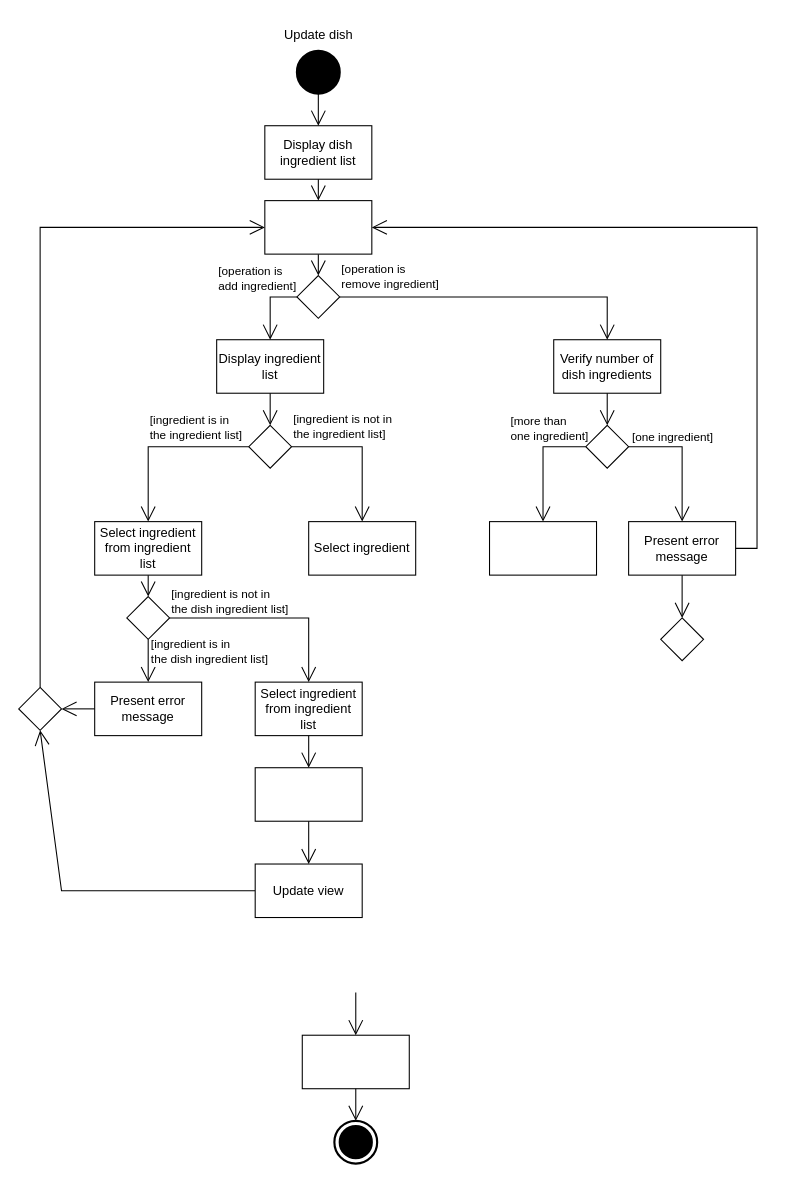
Image size: 791x1182. Some labels were removed from this diagram. The shapes that lost their labels are listed below. From the top down, each one's centre as x and y in pixels, then its label:
pixel 318 227: Select operation
pixel 542 548: Remove ingredient from dish ingredient list
pixel 308 794: Add ingredient to dish
pixel 355 1061: Store updated ingredient list
